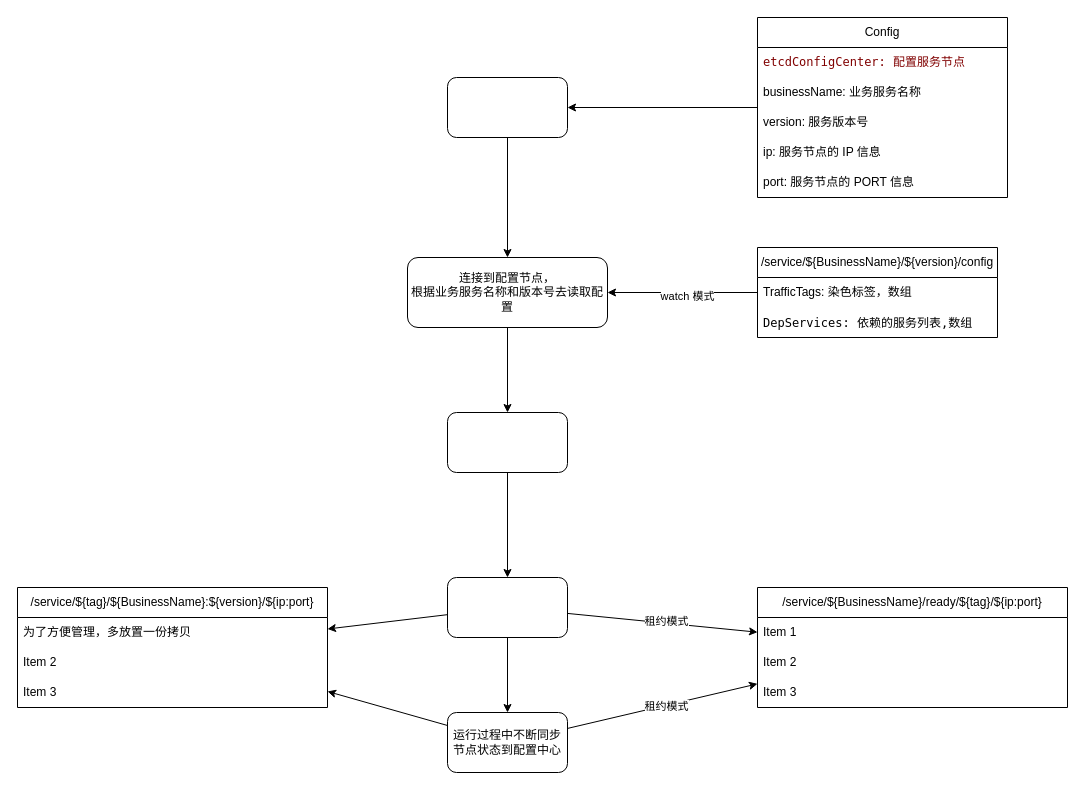
This 1085x790 diagram has some shape labels left out. Each missing label, with the centre of its shape:
在配置中心注册ready信息: the point at 507,607
根据配置信息进行调整自身状态: the point at 507,442
读取基础配置信息: the point at 507,107
